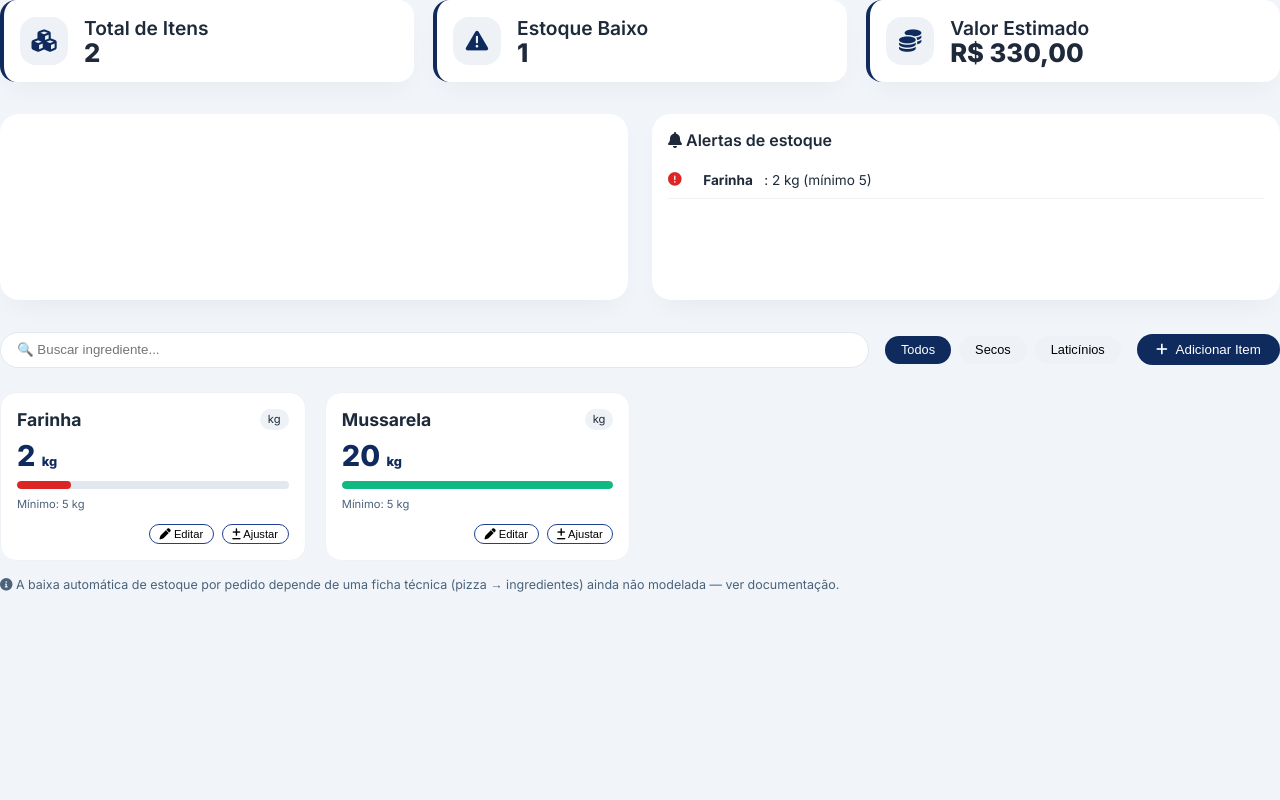
Test: StockSection (painel admin — estoque) › editar ingrediente com sucesso: atualiza com a lista confirmada pelo servidor
Click the 1st button "Editar": (181, 534) [149,524,214,544]
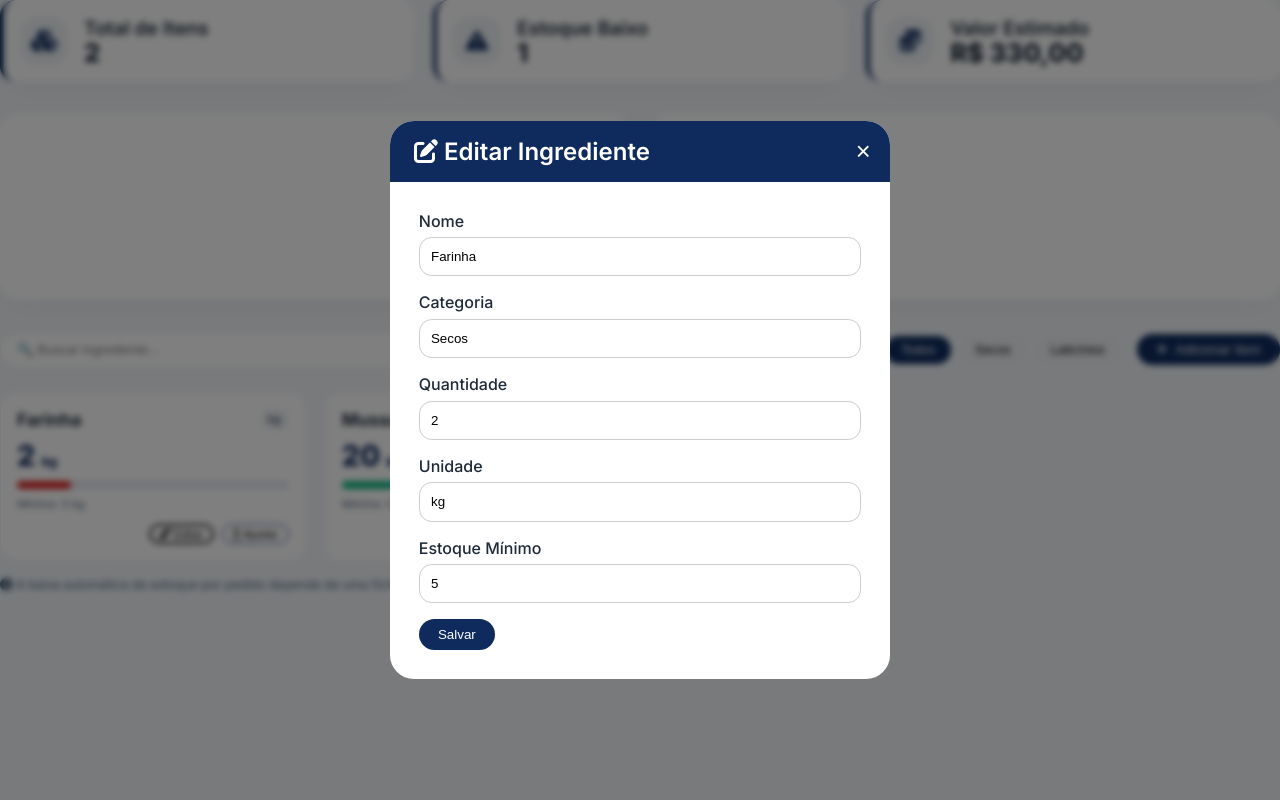
Replace the text in the field labelled "Nome" with "Farinha de Trigo": (640, 257) [419,237,861,276]
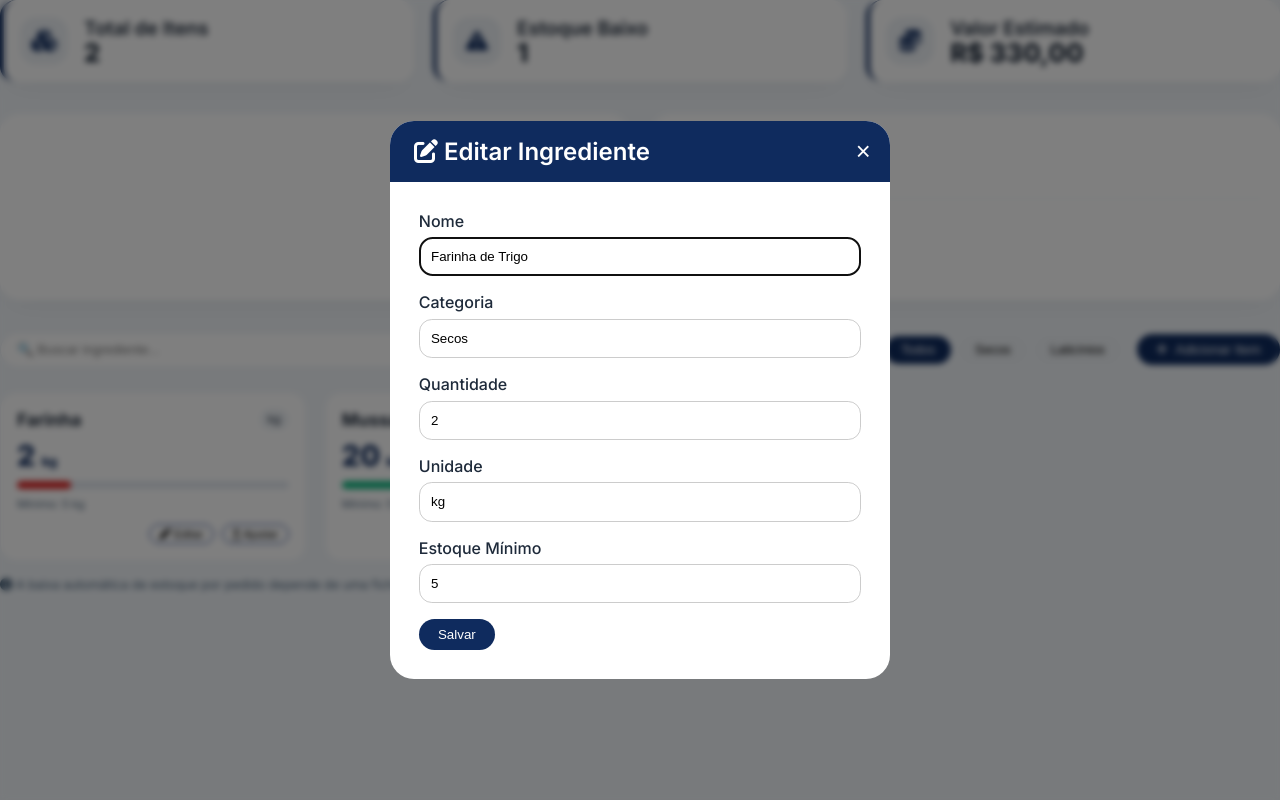
Click the button "Salvar": (457, 635) [419,619,495,650]
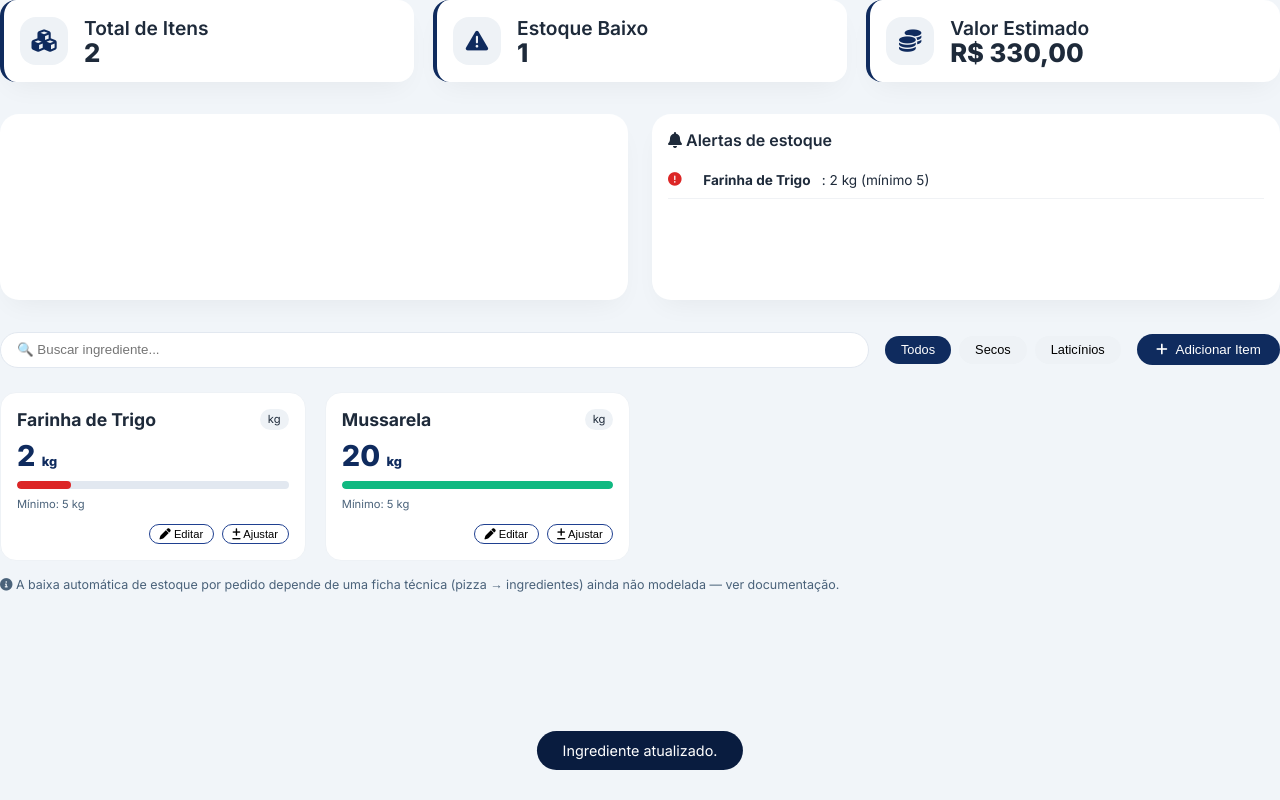
Expected: the text "Ingrediente atualizado." is shown, [537,731,743,770]
Expected: the text "Farinha de Trigo" in the row of "Mussarela" is shown, [17,409,156,430]
